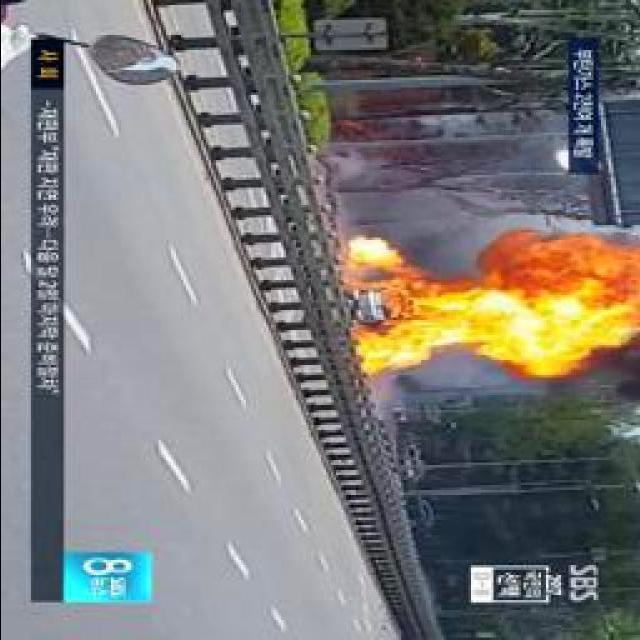Fire: (346, 236, 426, 372), (498, 246, 579, 380), (427, 277, 487, 349)
